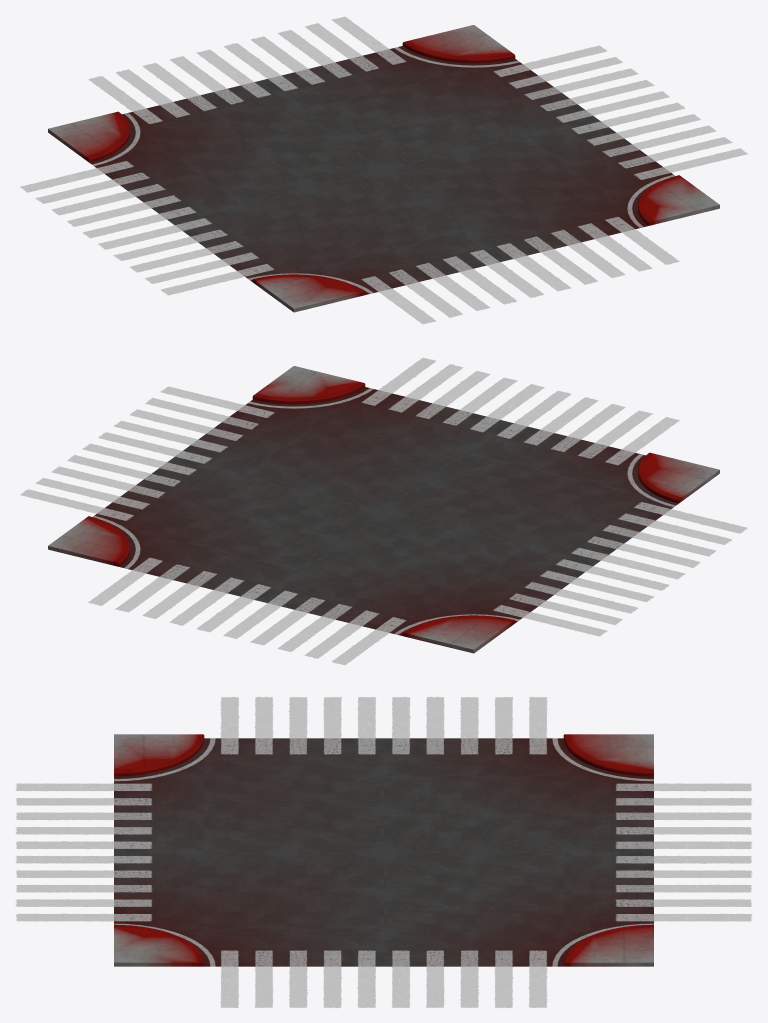
File: Street_4WayIntersection.glb
The picture shows the model from 3 angles, top to bottom: view 1: azimuth 30°, elevation 25°; view 2: azimuth 150°, elevation 25°; view 3: azimuth 270°, elevation 25°; orthographic projection. The views are drawn at different scales.
Parts seen in each view (by area): view 1: Street_4WayIntersection; view 2: Street_4WayIntersection; view 3: Street_4WayIntersection.
Boxes of the visible parts, x1,y1,x2,y2 form: Street_4WayIntersection: (20, 16, 747, 324); Street_4WayIntersection: (20, 358, 747, 664); Street_4WayIntersection: (16, 697, 751, 1007).
Bounding box in the file's own units: 24.67 × 0.1505 × 24.67.
Materials: 3 (3 with a texture image).
